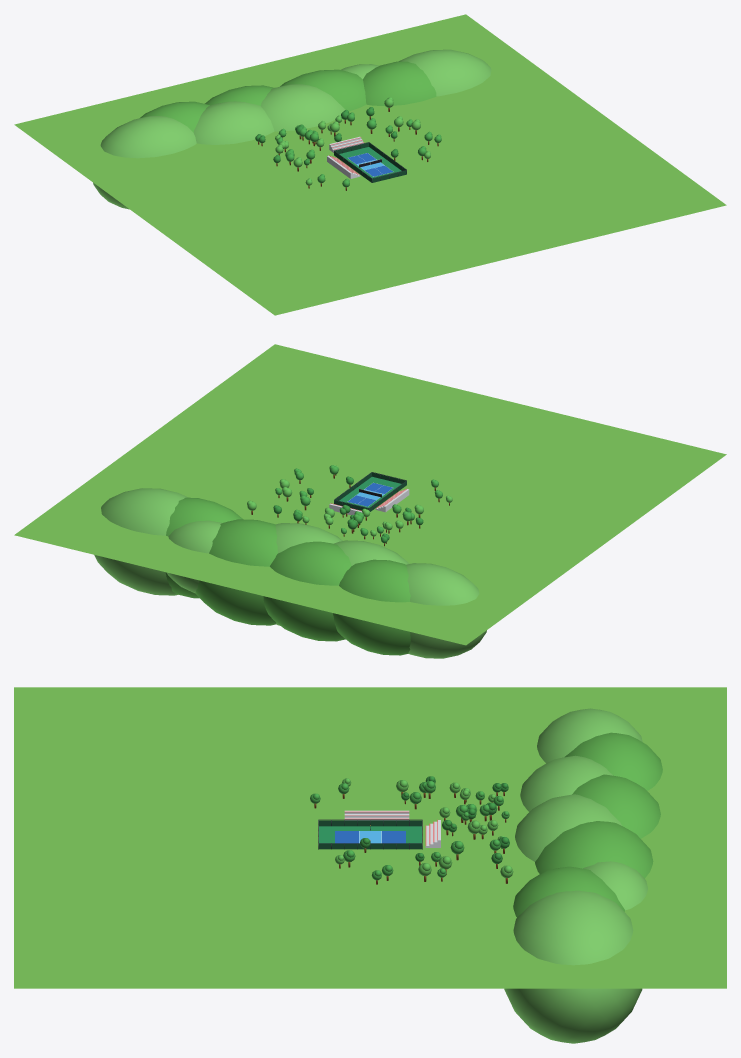
Rendered from court.glb.
3 renders of one model, top to bottom at view 1: azimuth 30°, elevation 25°; view 2: azimuth 150°, elevation 25°; view 3: azimuth 270°, elevation 25°, orthographic. The views are drawn at different scales.
Parts seen in each view (by area): view 1: flat_ground, ol_hill_b, ol_hill_a, ol_tree_leaf_a, ol_tree_leaf_b, ol_windscreen, ol_bleachers, ol_tree_leaf_c, flat_surround; view 2: flat_ground, ol_hill_a, ol_hill_b, ol_tree_leaf_a, ol_tree_leaf_b, ol_windscreen, ol_tree_leaf_c; view 3: flat_ground, ol_hill_b, ol_hill_a, ol_tree_leaf_a, ol_tree_leaf_b, ol_windscreen, ol_bleachers, ol_tree_leaf_c, flat_surround, flat_court.
Boxes of the visible parts, x1,y1,x2,y2 form: flat_ground: (14,14,726,315); ol_hill_b: (93,49,491,209); ol_hill_a: (140,61,436,132); ol_tree_leaf_a: (276,112,441,187); ol_tree_leaf_b: (275,97,430,185); ol_windscreen: (334,142,406,182); ol_bleachers: (327,136,363,178); ol_tree_leaf_c: (255,107,398,165); flat_surround: (339,147,401,178); flat_ground: (14,344,726,645); ol_hill_a: (165,497,410,655); ol_hill_b: (94,488,486,658); ol_tree_leaf_a: (275,465,442,535); ol_tree_leaf_b: (247,465,452,536); ol_windscreen: (334,472,406,511); ol_tree_leaf_c: (273,476,423,543); flat_ground: (14,687,726,988); ol_hill_b: (504,708,647,1043); ol_hill_a: (513,732,662,917); ol_tree_leaf_a: (310,781,509,880); ol_tree_leaf_b: (335,778,513,877); ol_windscreen: (319,820,421,849); ol_bleachers: (344,810,440,847); ol_tree_leaf_c: (360,776,509,863); flat_surround: (319,826,421,843); flat_court: (335,831,405,843).
Bounding box in the file's own units: 440 × 89.41 × 440.
